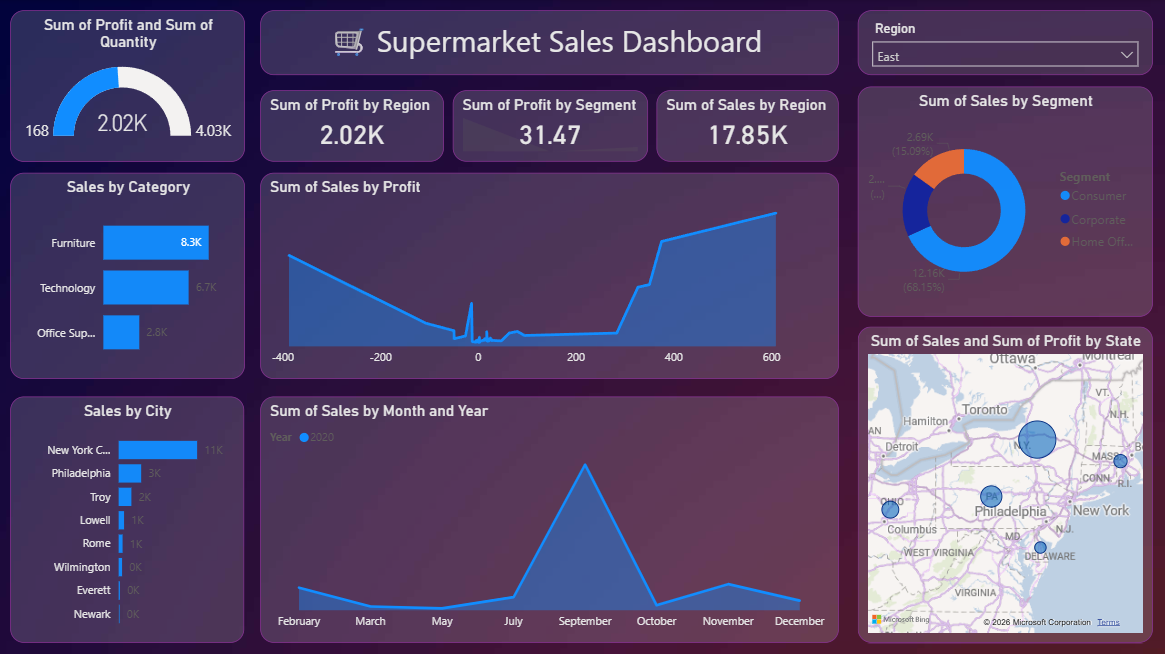

The dashboard page shown, as its layout file describes it:
{"tool":"powerbi","page":{"name":"Page 1","canvas":[1280,720],"ordinal":0},"visuals":[{"type":"clusteredBarChart","title":" Sales by Category","fields":{"Category":["SuperStore_Sales_Dataset.Category"],"Y":["Sum(SuperStore_Sales_Dataset.Sales)"]},"box":[12.3,190.7,258,226.4],"z":0},{"type":"clusteredBarChart","title":" Sales by City","fields":{"Y":["Sum(SuperStore_Sales_Dataset.Sales)"],"Category":["SuperStore_Sales_Dataset.City"]},"box":[12.3,436.4,256.6,270.3],"z":1000},{"type":"stackedAreaChart","fields":{"Y":["Sum(SuperStore_Sales_Dataset.Sales)"],"Category":["SuperStore_Sales_Dataset.Order Date.Variation.Date Hierarchy.Month"],"Series":["SuperStore_Sales_Dataset.Order Date.Variation.Date Hierarchy.Year"]},"box":[286.8,436.4,635.3,270.3],"z":2000},{"type":"map","fields":{"Category":["SuperStore_Sales_Dataset.State"],"Size":["Sum(SuperStore_Sales_Dataset.Sales)"]},"box":[942.7,359.5,323.8,347.2],"z":3000},{"type":"donutChart","fields":{"Category":["SuperStore_Sales_Dataset.Segment"],"Y":["Sum(SuperStore_Sales_Dataset.Sales)"]},"box":[942.7,96.1,323.8,252.5],"z":4000},{"type":"slicer","fields":{"Values":["SuperStore_Sales_Dataset.Region"]},"box":[942.7,12.3,323.8,71.4],"z":5000},{"type":"textbox","box":[286.8,12.3,635.3,71.4],"z":6000},{"type":"stackedAreaChart","fields":{"Category":["SuperStore_Sales_Dataset.Profit"],"Y":["Sum(SuperStore_Sales_Dataset.Sales)"]},"box":[286.8,190.7,635.3,226.4],"z":7000},{"type":"gauge","fields":{"MinValue":["Sum(SuperStore_Sales_Dataset.Quantity)"],"Y":["Sum(SuperStore_Sales_Dataset.Profit)"]},"box":[12.3,12.3,258,166],"z":8000},{"type":"kpi","fields":{"Indicator":["Sum(SuperStore_Sales_Dataset.Profit)"],"TrendLine":["SuperStore_Sales_Dataset.Region"]},"box":[286.8,100.2,201.7,78.2],"z":8001},{"type":"kpi","fields":{"Indicator":["Sum(SuperStore_Sales_Dataset.Profit)"],"TrendLine":["SuperStore_Sales_Dataset.Segment"]},"box":[498.1,100.2,214.1,78.2],"z":8002},{"type":"kpi","fields":{"Indicator":["Sum(SuperStore_Sales_Dataset.Sales)"],"TrendLine":["SuperStore_Sales_Dataset.Region"]},"box":[721.8,100.2,200.3,78.2],"z":8003}]}

Visuals, with their boxes in screenshot pixels (x1, y1, x2, y2), scaled from the page's 1280x720 canvas onto the 1165x654 screenshot:
" Sales by Category" clusteredBarChart: bbox=(11, 173, 246, 379)
" Sales by City" clusteredBarChart: bbox=(11, 396, 245, 642)
stackedAreaChart - Sum(SuperStore_Sales_Dataset.Sales) x SuperStore_Sales_Dataset.Order Date.Variation.Date Hierarchy.Month: bbox=(261, 396, 839, 642)
map - SuperStore_Sales_Dataset.State x Sum(SuperStore_Sales_Dataset.Sales): bbox=(858, 327, 1153, 642)
donutChart - SuperStore_Sales_Dataset.Segment x Sum(SuperStore_Sales_Dataset.Sales): bbox=(858, 87, 1153, 317)
slicer - SuperStore_Sales_Dataset.Region: bbox=(858, 11, 1153, 76)
textbox: bbox=(261, 11, 839, 76)
stackedAreaChart - SuperStore_Sales_Dataset.Profit x Sum(SuperStore_Sales_Dataset.Sales): bbox=(261, 173, 839, 379)
gauge - Sum(SuperStore_Sales_Dataset.Quantity) x Sum(SuperStore_Sales_Dataset.Profit): bbox=(11, 11, 246, 162)
kpi - Sum(SuperStore_Sales_Dataset.Profit) x SuperStore_Sales_Dataset.Region: bbox=(261, 91, 445, 162)
kpi - Sum(SuperStore_Sales_Dataset.Profit) x SuperStore_Sales_Dataset.Segment: bbox=(453, 91, 648, 162)
kpi - Sum(SuperStore_Sales_Dataset.Sales) x SuperStore_Sales_Dataset.Region: bbox=(657, 91, 839, 162)
